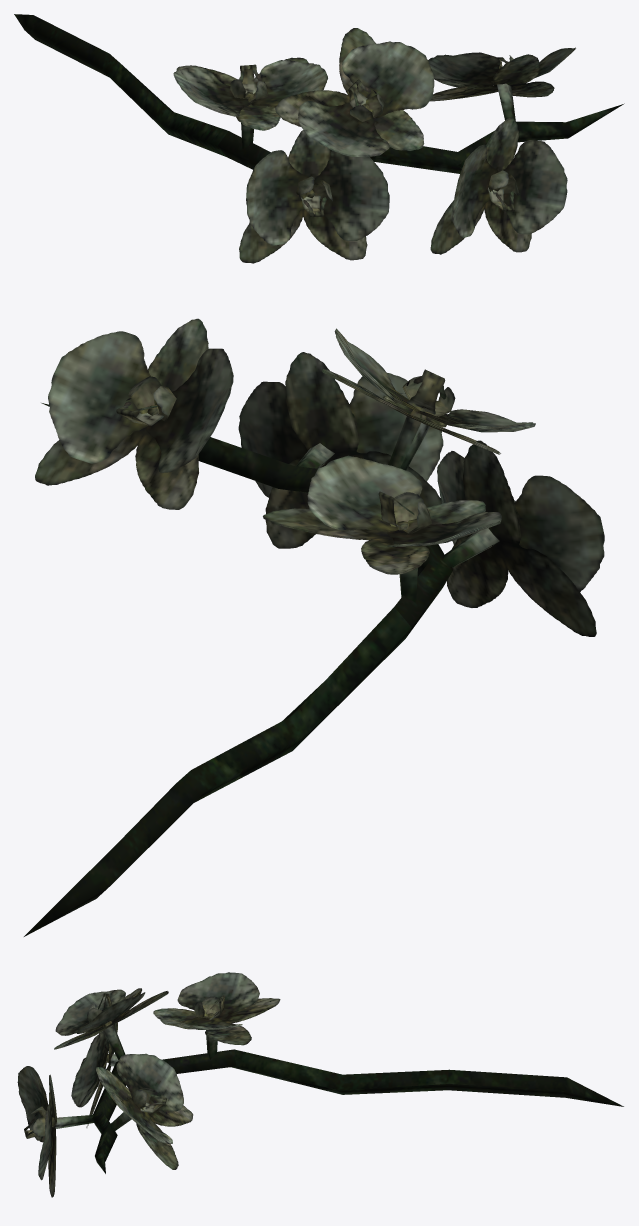
Rendered from rotten_orchid.dae.
3 views of the same model, one above another, from view 1: azimuth 30°, elevation 25°; view 2: azimuth 150°, elevation 25°; view 3: azimuth 270°, elevation 25° (orthographic). The views are drawn at different scales.
Visible parts, largest first — view 1: orchid_mesh14; view 2: orchid_mesh14; view 3: orchid_mesh14.
Boxes of the visible parts, box(x1,y1,x2,y2) form: orchid_mesh14: box(14, 14, 624, 263); orchid_mesh14: box(24, 318, 604, 936); orchid_mesh14: box(17, 972, 623, 1197).
Bounding box in the file's own units: 0.5924 × 0.3202 × 0.9463.
